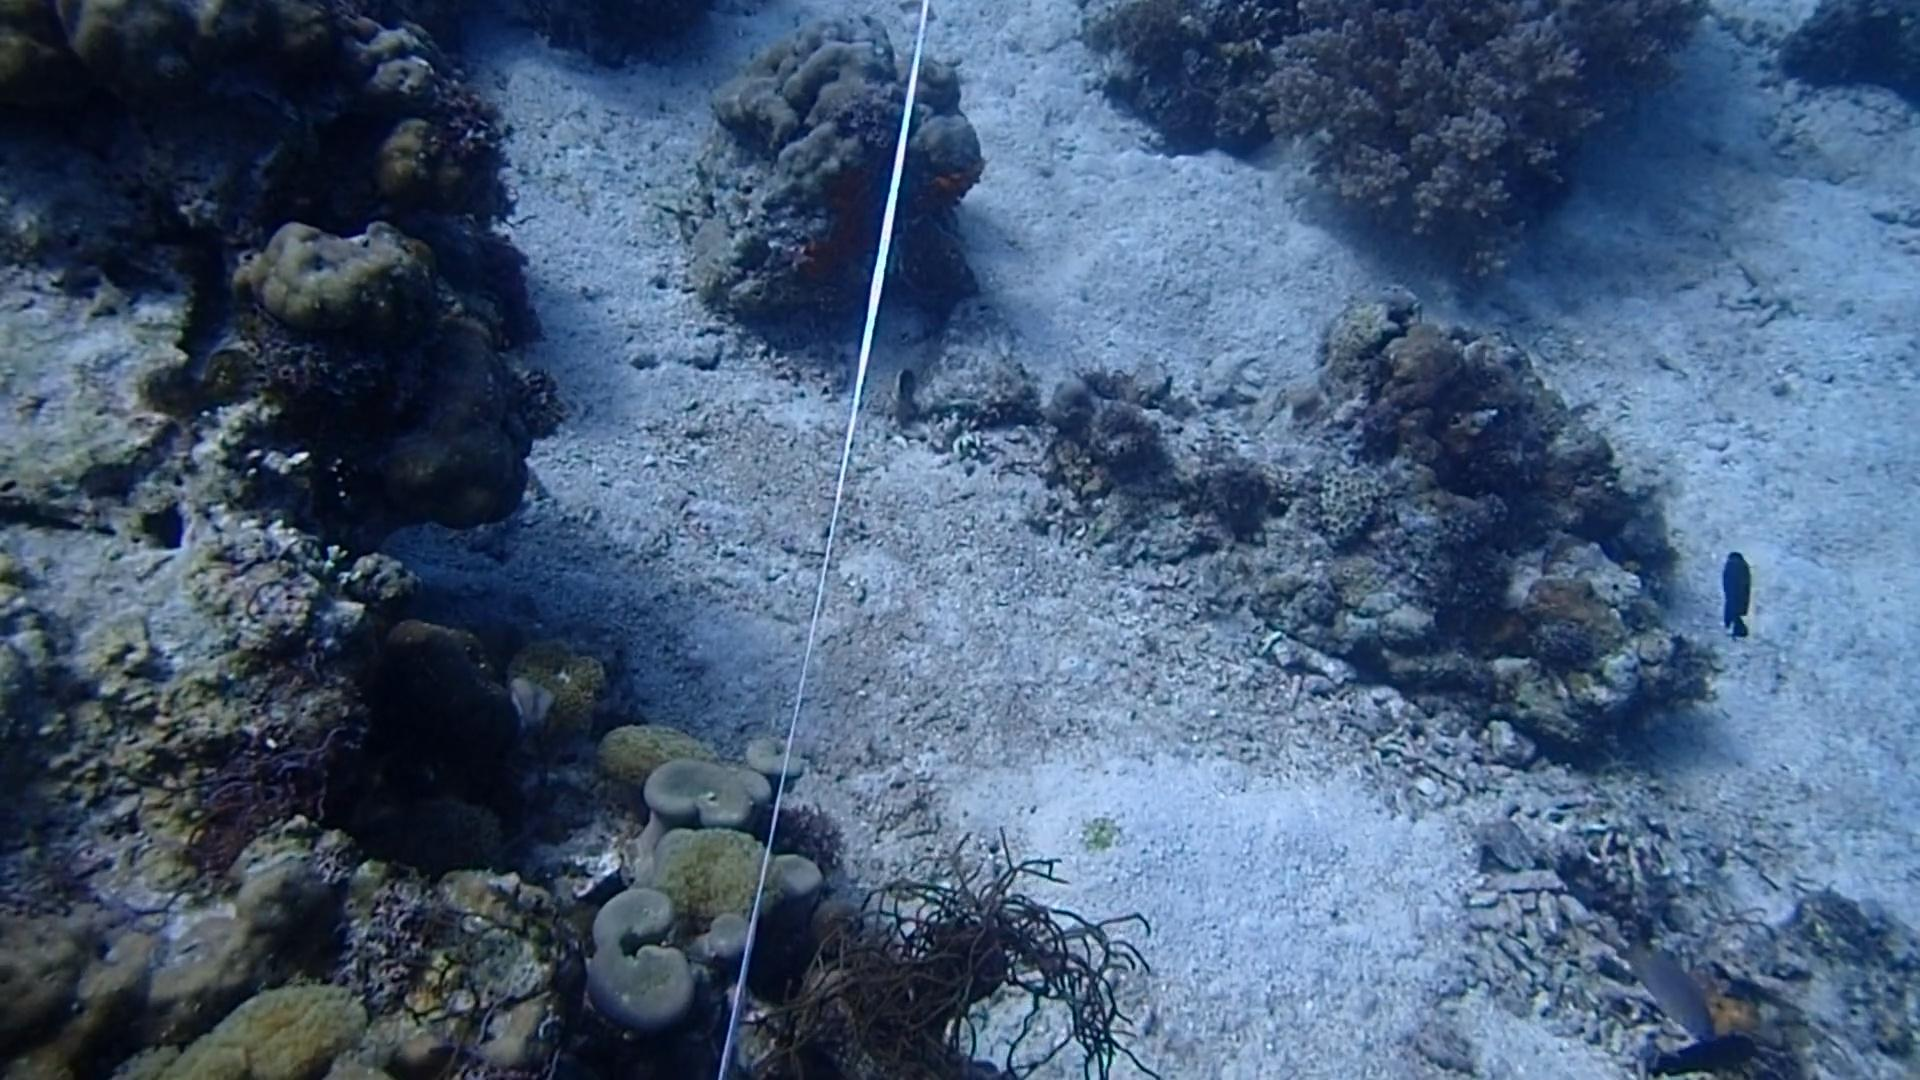Dark Fish: (1709, 547, 1767, 641), (1648, 1033, 1759, 1080)
Light Fish: (1622, 935, 1721, 1038)
